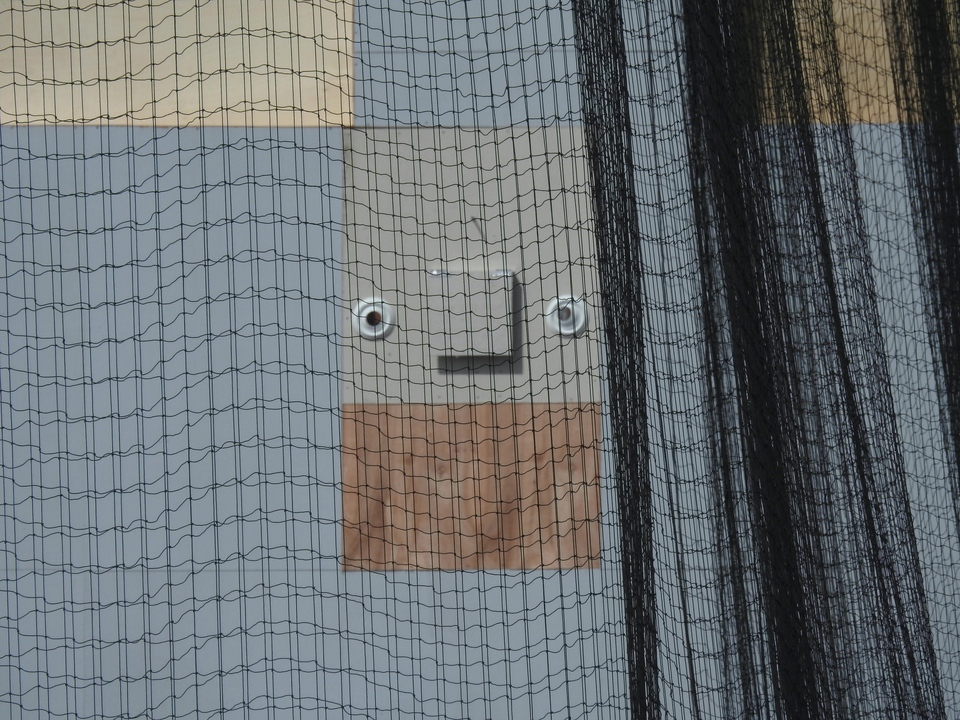facade: (352, 264, 585, 362)
